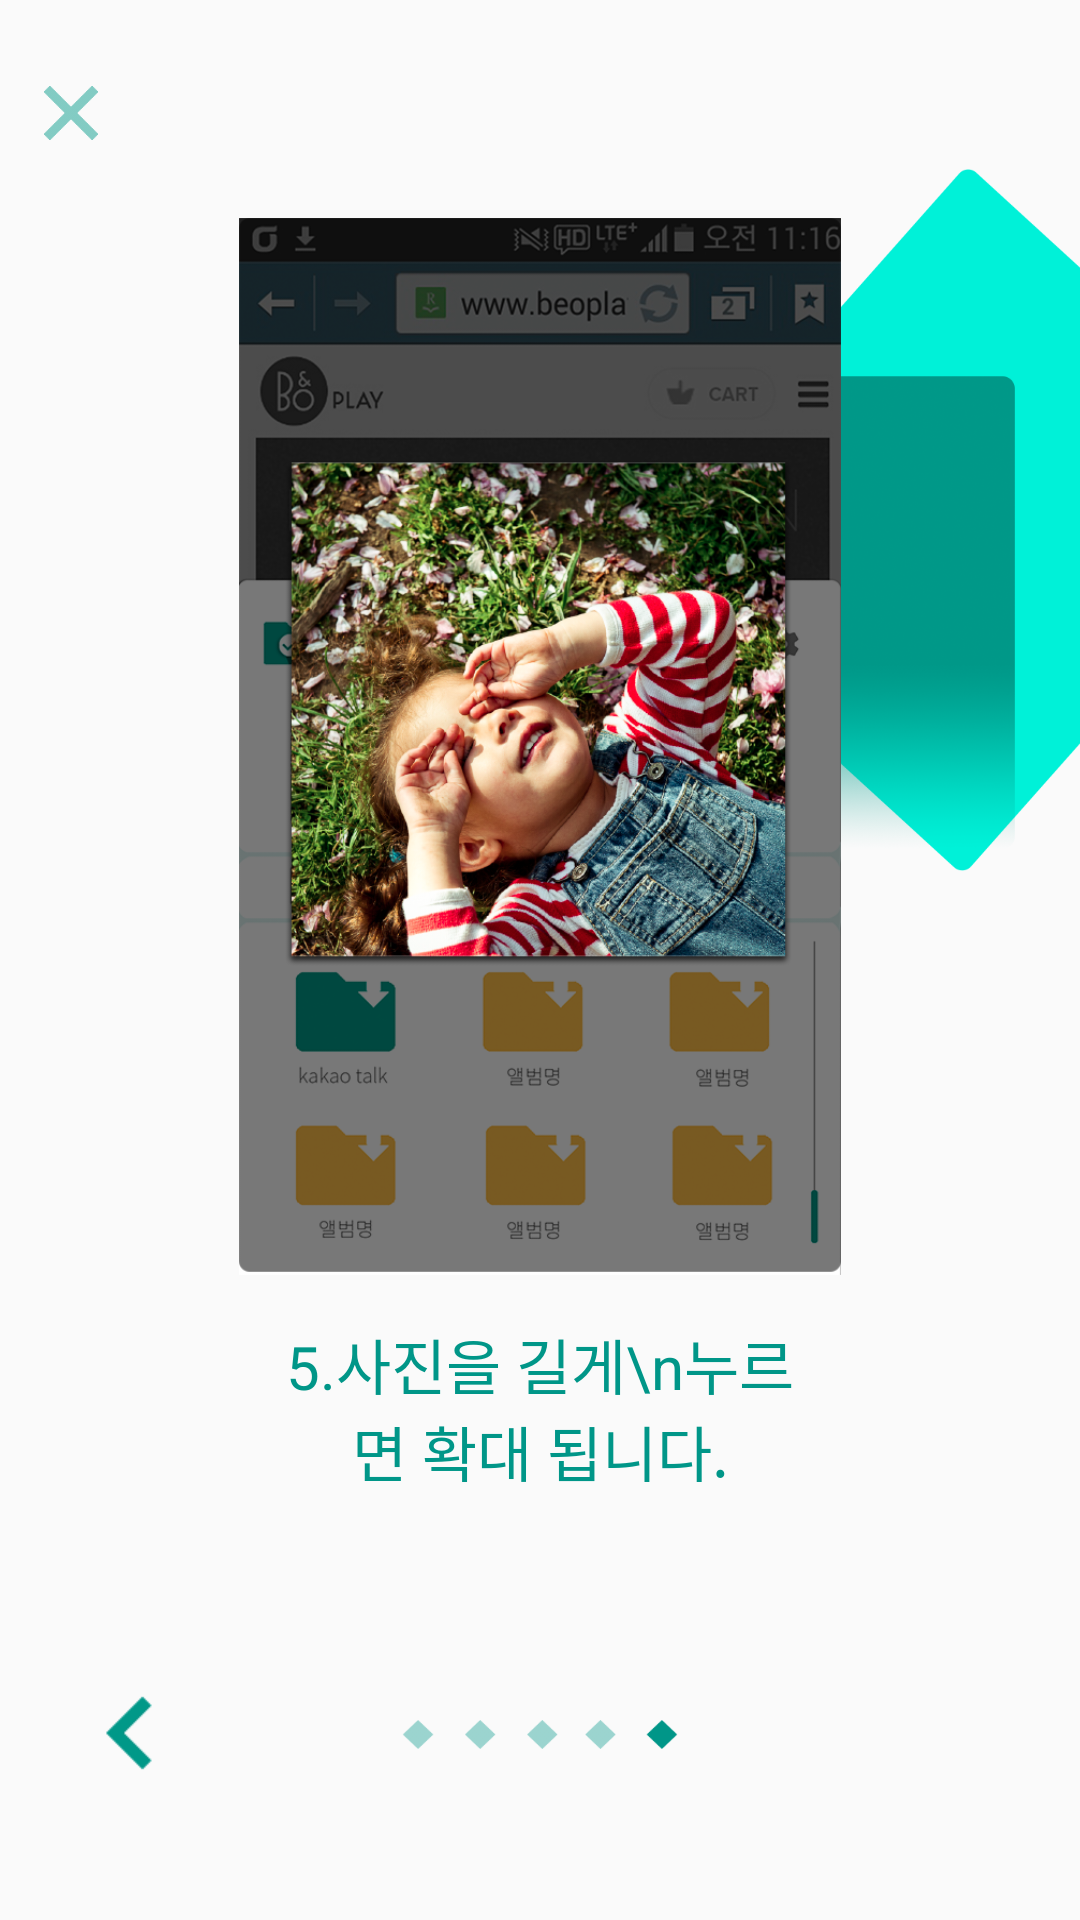

Locate icon controls on the screen. Image size 1080 x 1920, boxes as (x1, y1, x2, y2).
before: (106, 1696, 152, 1770)
